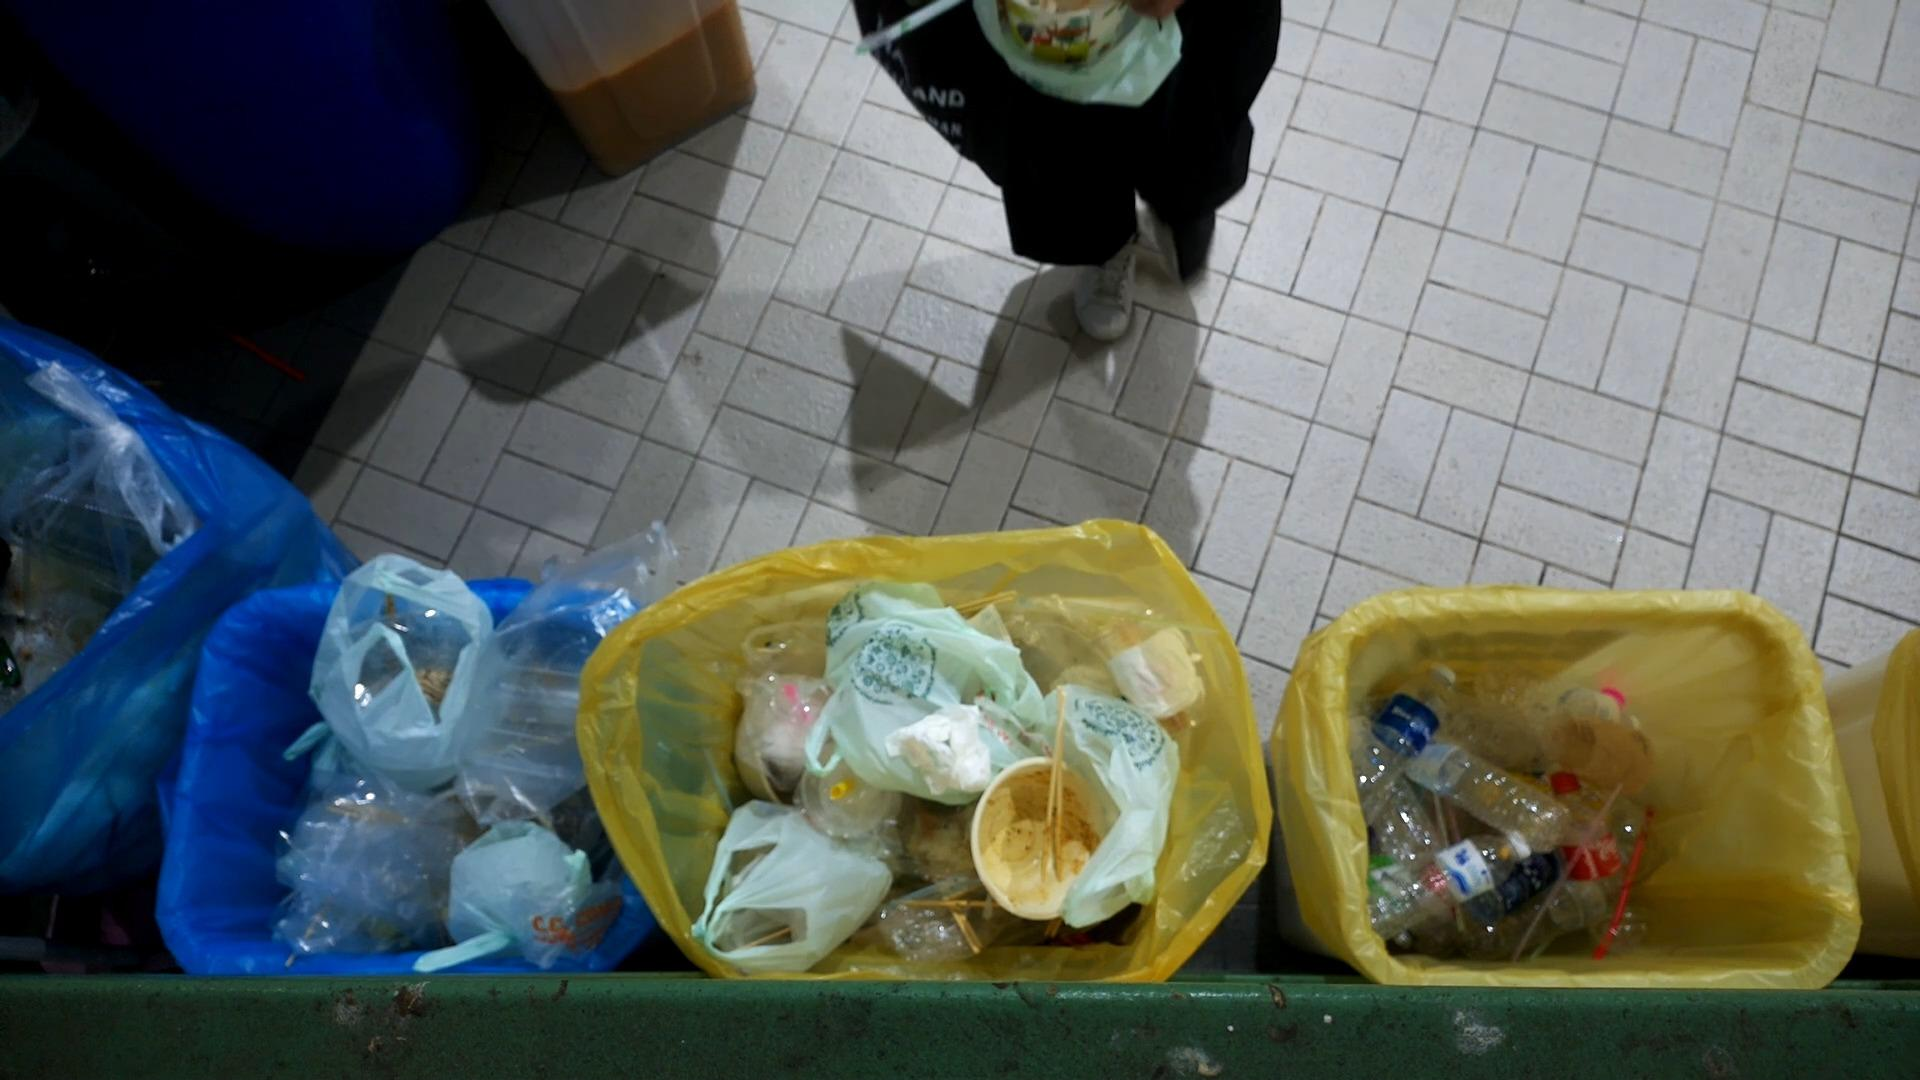filled plastic bag: (811, 572, 1075, 818), (285, 535, 497, 798), (268, 782, 555, 957), (669, 793, 898, 984), (1033, 678, 1185, 932), (431, 814, 597, 980)
food container: (952, 757, 1110, 923)
plastic bag: (452, 508, 683, 820)
plastic bottle: (1394, 723, 1572, 849), (1364, 837, 1536, 961), (1357, 651, 1456, 829), (1549, 765, 1629, 932)
plastic cup: (1084, 580, 1213, 732), (735, 665, 825, 777)
sticks: (1027, 680, 1088, 882)
straw: (1582, 783, 1687, 955), (824, 777, 861, 803)
tissue paper: (870, 698, 1002, 815)
